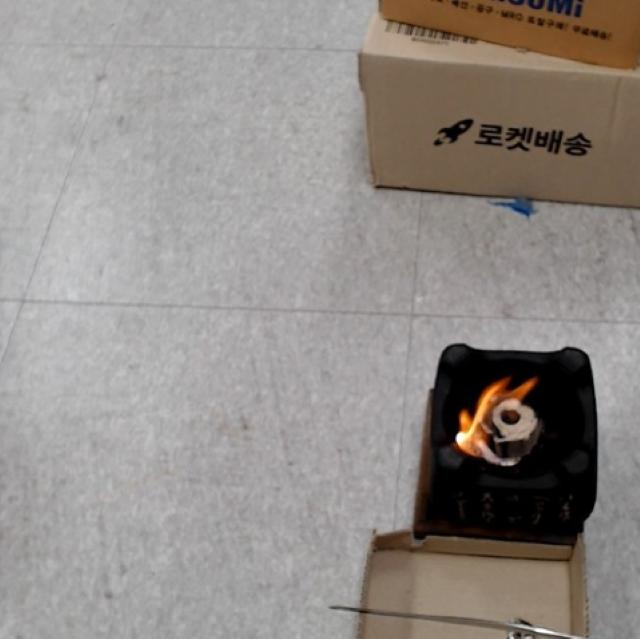Fire: (450, 373, 535, 457)
